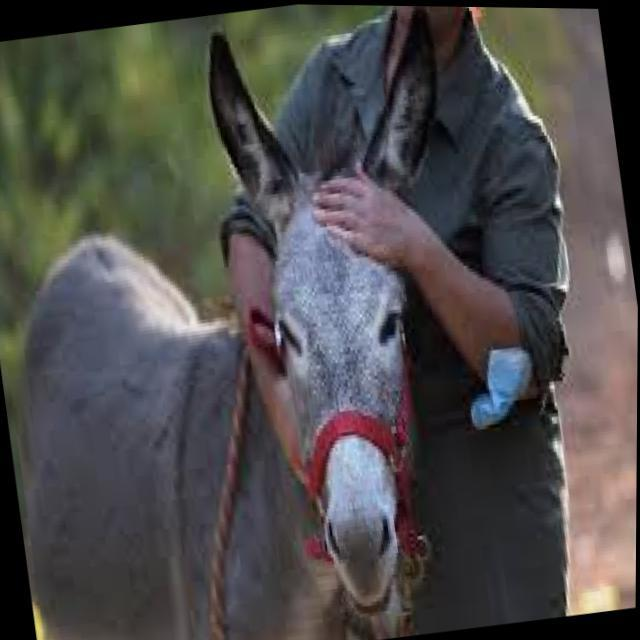Donkey: (0, 3, 526, 640), (169, 2, 523, 616)
